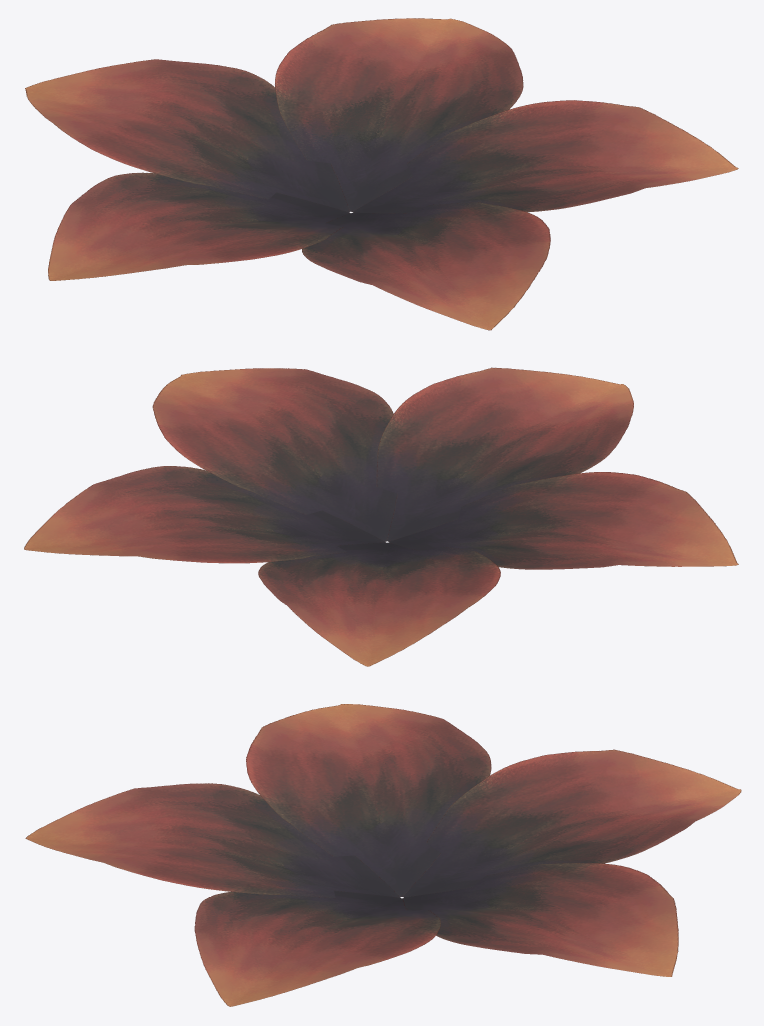
File: SM_PetalArray.fbx
The picture shows the model from 3 angles, top to bottom: view 1: azimuth 30°, elevation 25°; view 2: azimuth 150°, elevation 25°; view 3: azimuth 270°, elevation 25°; orthographic projection. The views are drawn at different scales.
Parts seen in each view (by area): view 1: pPlane1, pPlane2, pPlane5, pPlane3, pPlane4; view 2: pPlane4, pPlane5, pPlane3, pPlane1, pPlane2; view 3: pPlane3, pPlane2, pPlane4, pPlane1, pPlane5.
Part boxes in pixels (<box>): pPlane1: <box>275,18,523,211</box>; pPlane2: <box>25,59,349,212</box>; pPlane5: <box>351,100,738,213</box>; pPlane3: <box>48,172,350,280</box>; pPlane4: <box>302,202,550,330</box>; pPlane4: <box>376,367,633,541</box>; pPlane5: <box>152,368,397,541</box>; pPlane3: <box>388,472,738,569</box>; pPlane1: <box>24,466,385,563</box>; pPlane2: <box>258,542,500,666</box>; pPlane3: <box>246,704,491,897</box>; pPlane2: <box>402,749,741,896</box>; pPlane4: <box>25,783,400,898</box>; pPlane1: <box>402,863,678,976</box>; pPlane5: <box>194,890,440,1006</box>.
Bounding box in the file's own units: 2.64 × 0.2308 × 2.63.
